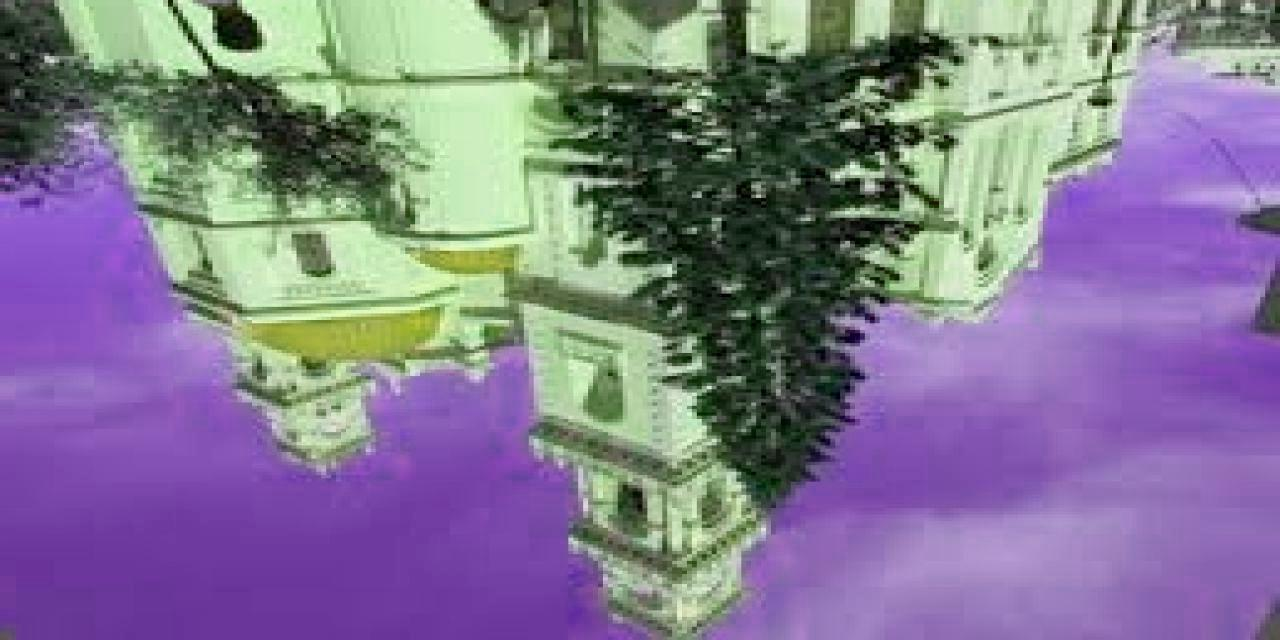Agios Minas: (51, 1, 1144, 632)
